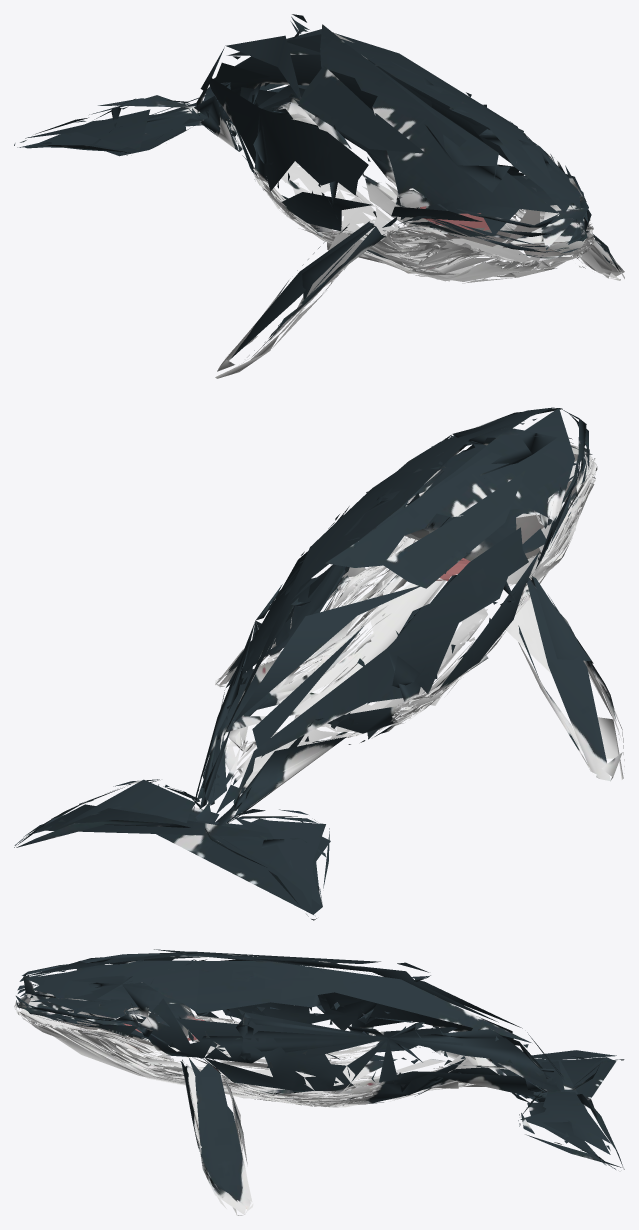
Rendered from whale2_dec.obj.
3 renders of one model, top to bottom at view 1: azimuth 30°, elevation 25°; view 2: azimuth 150°, elevation 25°; view 3: azimuth 270°, elevation 25°, orthographic. The views are drawn at different scales.
Bounding box in the file's own units: 0.5806 × 0.335 × 1.
Materials: 1 (1 with a texture image).
